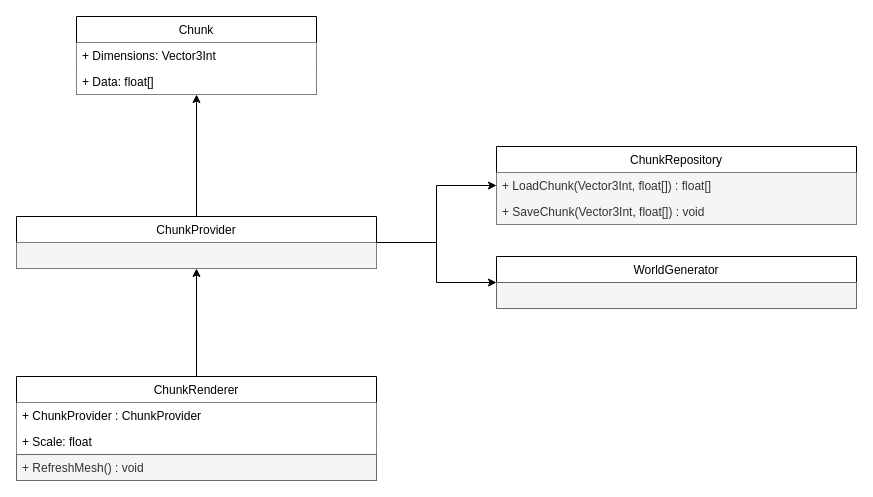
This 873x497 diagram has some shape labels left out. Each missing label, with the centre of its shape:
+ FillBuffer(Vector3Int, ComputeBuffer) : ComputeBuffer: (x=196, y=255)
+ GenerateChunk(Vector3Int, float[]) :float[]: (x=676, y=295)
